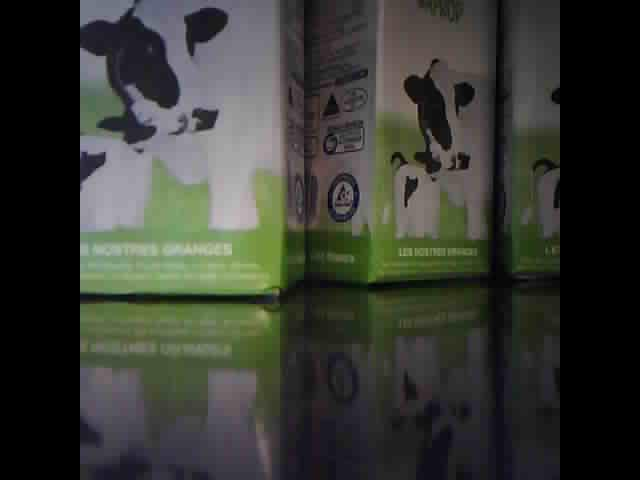leche: (82, 4, 302, 295), (309, 3, 496, 285), (504, 2, 559, 278)
